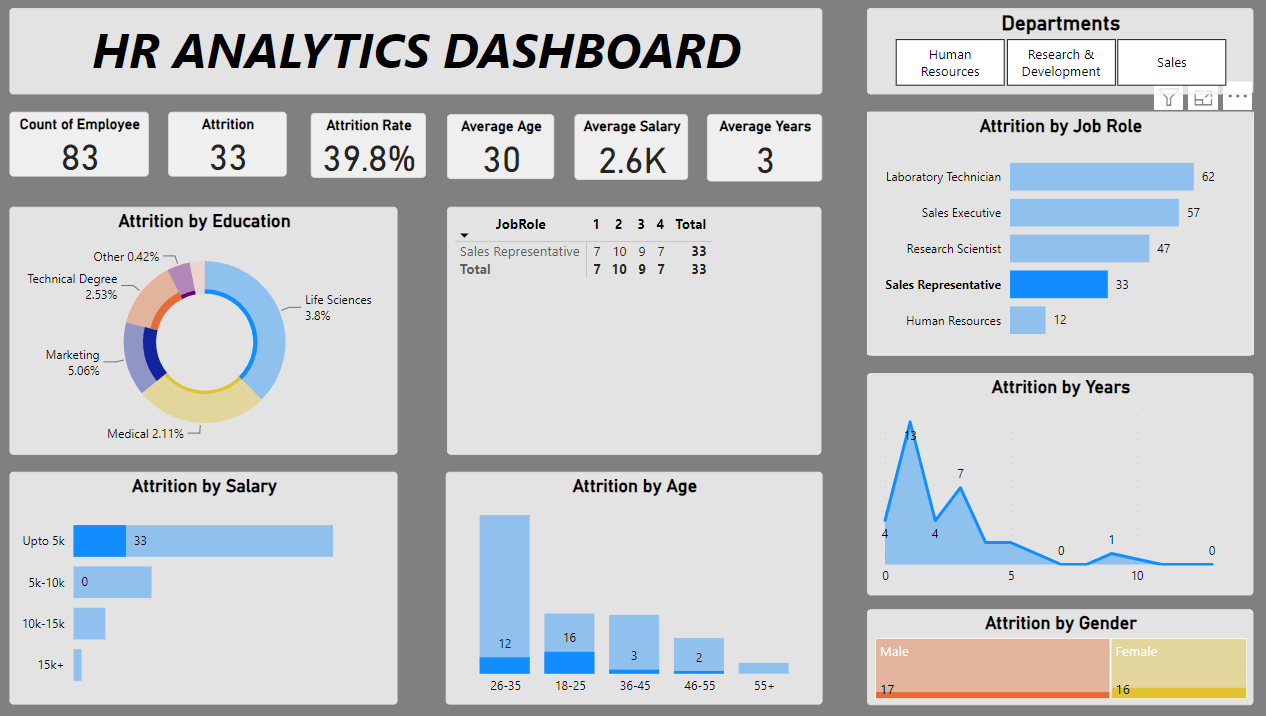

The dashboard page shown, as its layout file describes it:
{"tool":"powerbi","page":{"name":"Page 1","canvas":[1280,720],"ordinal":0},"visuals":[{"type":"card","title":"Count of Employee","fields":{"Values":["CountNonNull(HR_Analytics.EmpID)"]},"box":[17,113.8,139.4,64.9],"z":0},{"type":"card","title":"Attrition","fields":{"Values":["Sum(HR_Analytics.AttritionCount)"]},"box":[176.6,113.8,118.1,64.9],"z":1000},{"type":"card","title":"Attrition Rate","fields":{"Values":["HR_Analytics.AttritionRate"]},"box":[319.1,114.9,114.9,64.9],"z":2000},{"type":"card","title":"Average Age ","fields":{"Values":["Avg(HR_Analytics.Age)"]},"box":[455.3,116,107.4,64.9],"z":3000},{"type":"card","title":"Average Salary","fields":{"Values":["Avg(HR_Analytics.MonthlyIncome)"]},"box":[583,116,113.8,66],"z":4000},{"type":"card","title":"Average Years ","fields":{"Values":["Avg(HR_Analytics.YearsAtCompany)"]},"box":[714.9,116,114.9,67],"z":5000},{"type":"donutChart","title":"Attrition by Education","fields":{"Category":["HR_Analytics.EducationField"],"Y":["Sum(HR_Analytics.AttritionCount)"]},"box":[17,208.5,388.3,247.9],"z":6000},{"type":"columnChart","title":"Attrition by Age","fields":{"Category":["HR_Analytics.AgeGroup"],"Y":["Sum(HR_Analytics.AttritionCount)"]},"box":[453.2,473.4,376.6,233],"z":7000},{"type":"pivotTable","fields":{"Rows":["HR_Analytics.JobRole"],"Columns":["HR_Analytics.JobSatisfaction"],"Values":["Sum(HR_Analytics.AttritionCount)"]},"box":[455.3,208.5,374.5,247.9],"z":8000},{"type":"barChart","title":"Attrition by Salary","fields":{"Category":["HR_Analytics.SalarySlab"],"Y":["Sum(HR_Analytics.AttritionCount)"]},"box":[17,473.4,388.3,233],"z":9000},{"type":"barChart","title":"Attrition by Job Role","fields":{"Category":["HR_Analytics.JobRole"],"Y":["Sum(HR_Analytics.AttritionCount)"]},"box":[875.5,113.8,386.2,243.6],"z":10000},{"type":"areaChart","title":"Attrition by Years","fields":{"Category":["HR_Analytics.YearsAtCompany"],"Y":["Sum(HR_Analytics.AttritionCount)"]},"box":[875,375,386.2,222.5],"z":11000},{"type":"treemap","title":"Attrition by Gender","fields":{"Group":["HR_Analytics.Gender"],"Values":["Sum(HR_Analytics.AttritionCount)"]},"box":[875.5,610.6,386.2,95.7],"z":12000},{"type":"slicer","title":"Departments","fields":{"Values":["HR_Analytics.Department"]},"box":[875.5,9.6,386.2,86.2],"z":13000},{"type":"textbox","box":[17,9.6,812.8,86.2],"z":14000}]}

Visuals, with their boxes in screenshot pixels (x1, y1, x2, y2), scaled from the page's 1280x720 canvas onto the 1266x716 screenshot:
"Count of Employee" card: l=17, t=113, r=155, b=178
"Attrition" card: l=175, t=113, r=291, b=178
"Attrition Rate" card: l=316, t=114, r=429, b=179
"Average Age " card: l=450, t=115, r=557, b=180
"Average Salary" card: l=577, t=115, r=689, b=181
"Average Years " card: l=707, t=115, r=821, b=182
"Attrition by Education" donutChart: l=17, t=207, r=401, b=454
"Attrition by Age" columnChart: l=448, t=471, r=821, b=702
pivotTable - HR_Analytics.JobRole x HR_Analytics.JobSatisfaction: l=450, t=207, r=821, b=454
"Attrition by Salary" barChart: l=17, t=471, r=401, b=702
"Attrition by Job Role" barChart: l=866, t=113, r=1248, b=355
"Attrition by Years" areaChart: l=865, t=373, r=1247, b=594
"Attrition by Gender" treemap: l=866, t=607, r=1248, b=702
"Departments" slicer: l=866, t=10, r=1248, b=95
textbox: l=17, t=10, r=821, b=95
